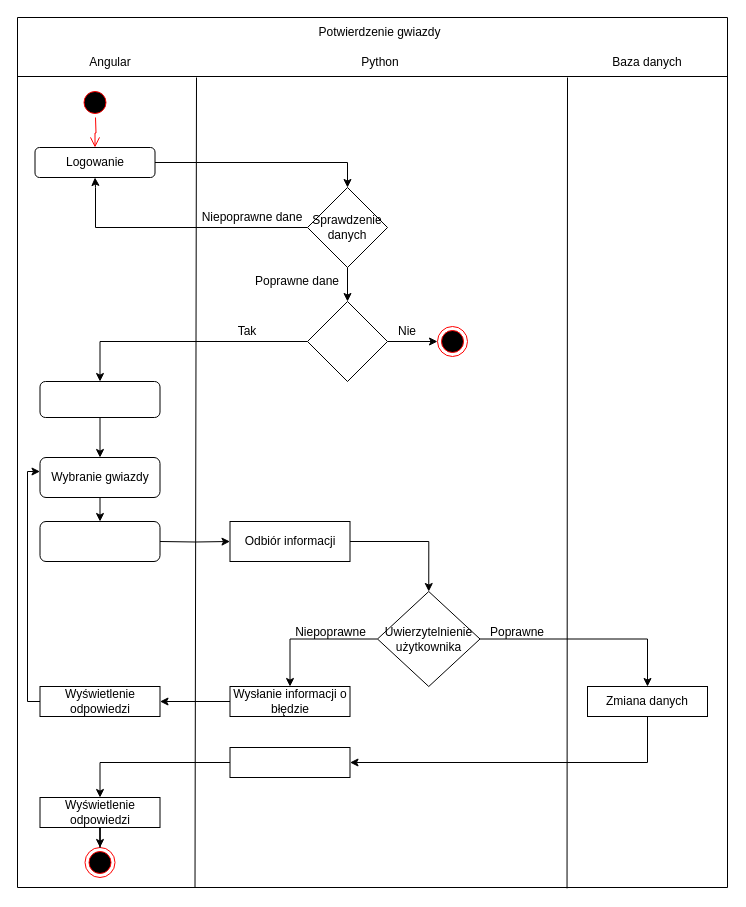
Some shapes in this 746 by 907 pixel diagram are drawn without their labels. Here are the shapes that lost their labels. From the top down, the centre of each, then its label:
pixel 347 341: Posiadanie uprawnień
pixel 99 399: Przejście do komponentu
pixel 99 541: Wybranie opcji "potwierdź"
pixel 289 762: Wysłanie pozytywnej odpowiedzi
